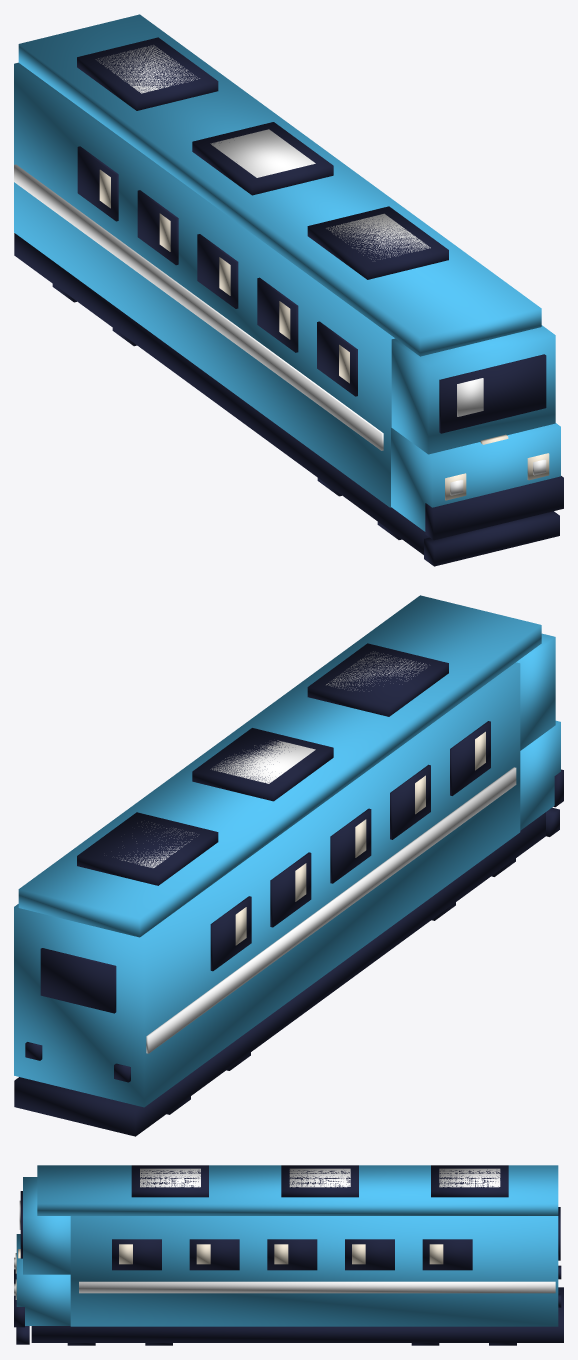
Rendered from train_blue.glb.
The picture shows the model from 3 angles, top to bottom: view 1: azimuth 30°, elevation 25°; view 2: azimuth 150°, elevation 25°; view 3: azimuth 270°, elevation 25°; orthographic projection. The views are drawn at different scales.
Visible parts, largest first — view 1: train_blue; view 2: train_blue; view 3: train_blue.
Boxes of the visible parts, x1,y1,x2,y2 form: train_blue: (14,14,563,566); train_blue: (14,595,563,1136); train_blue: (14,1165,563,1345).
Bounding box in the file's own units: 1.84 × 2.97 × 9.92.
